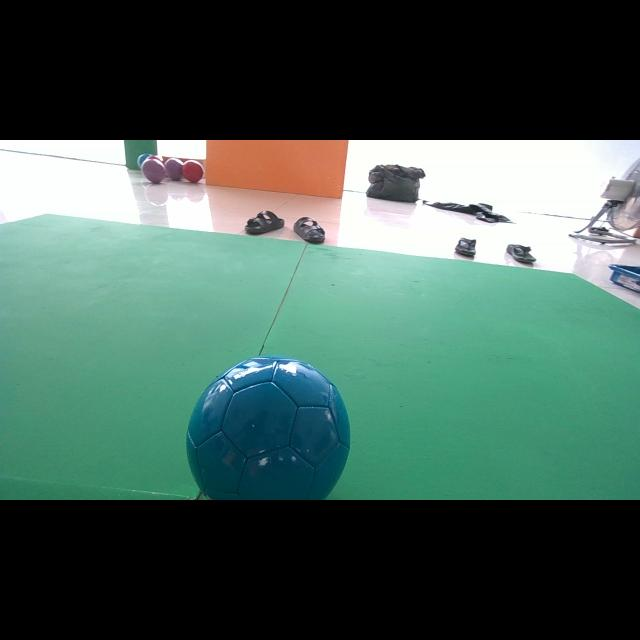B: (188, 355, 350, 499)
